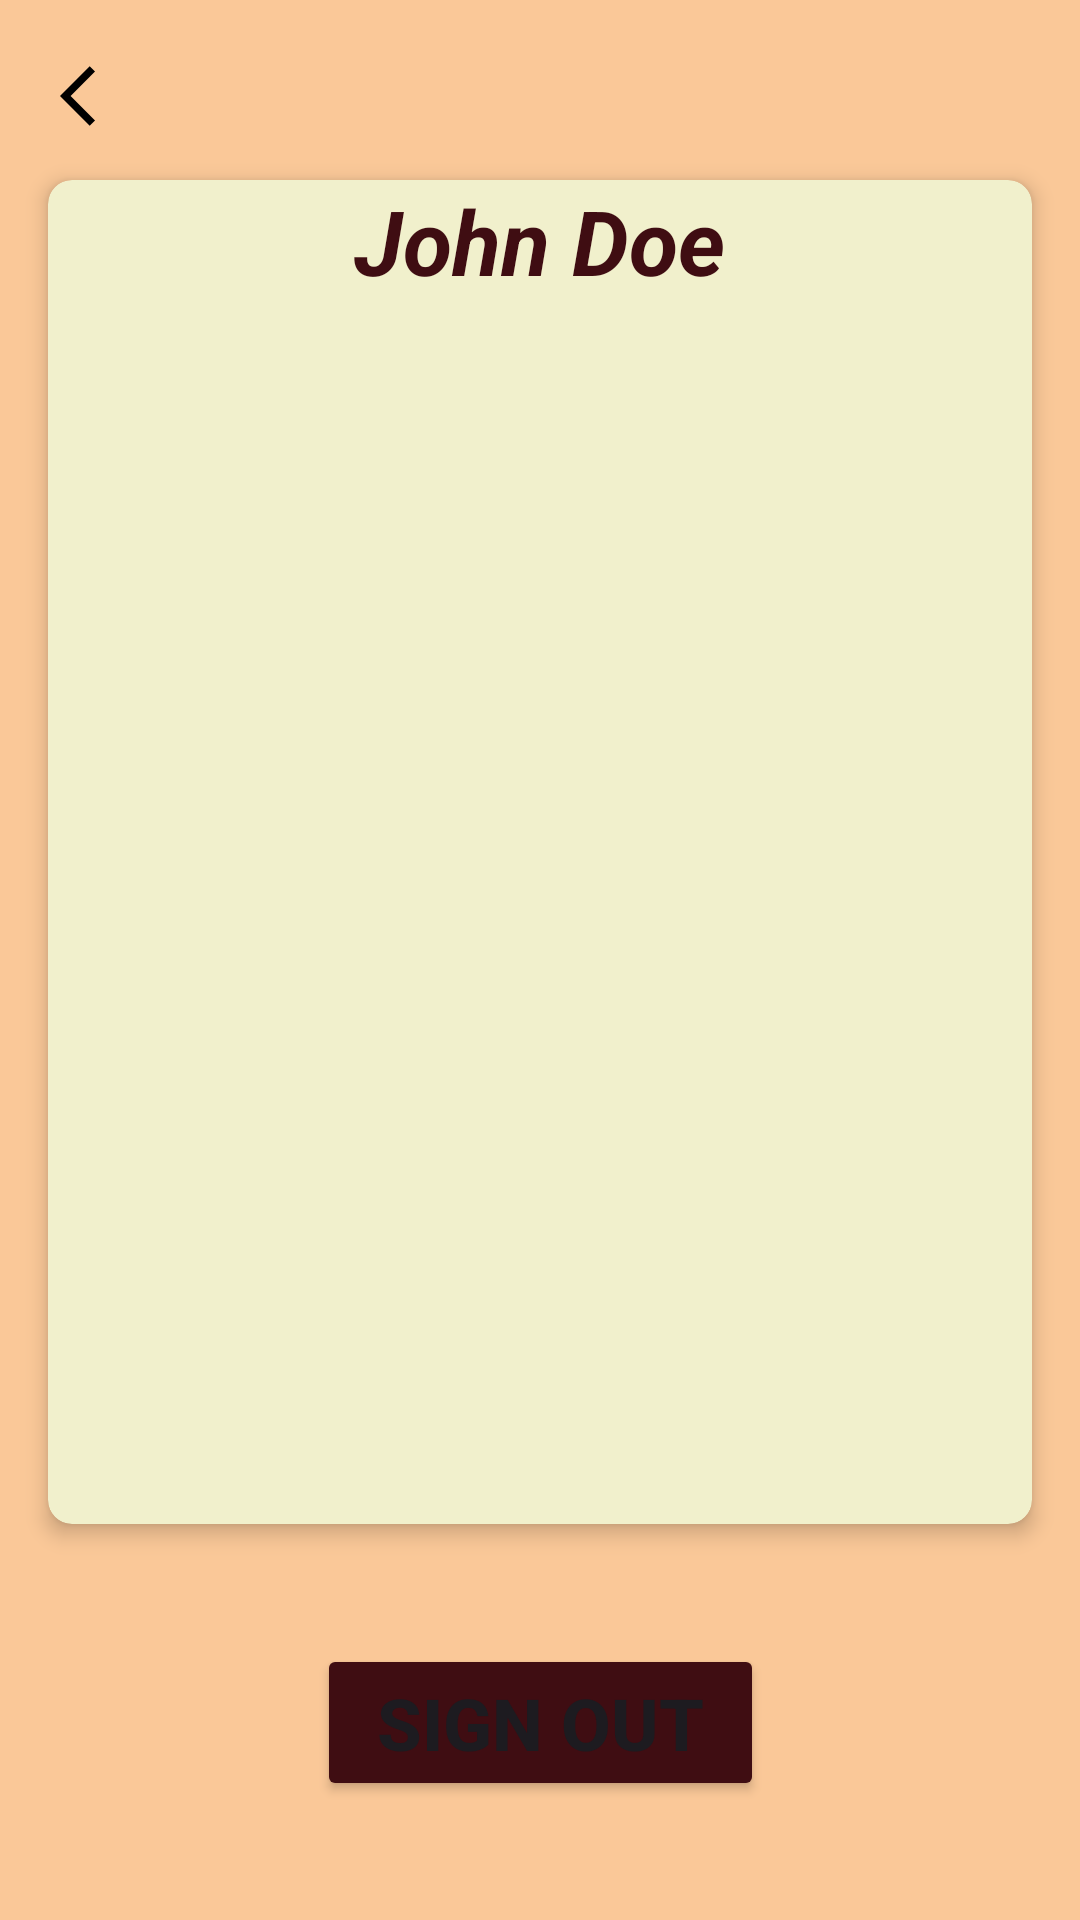

Where to tap for icons on this 1080x1920 app screen, as [x,y]:
backicon: [77,96]
